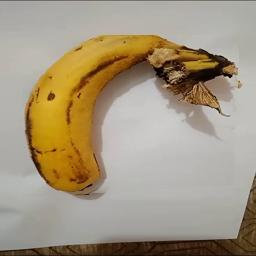Banana Semifresh: (22, 35, 240, 198)
